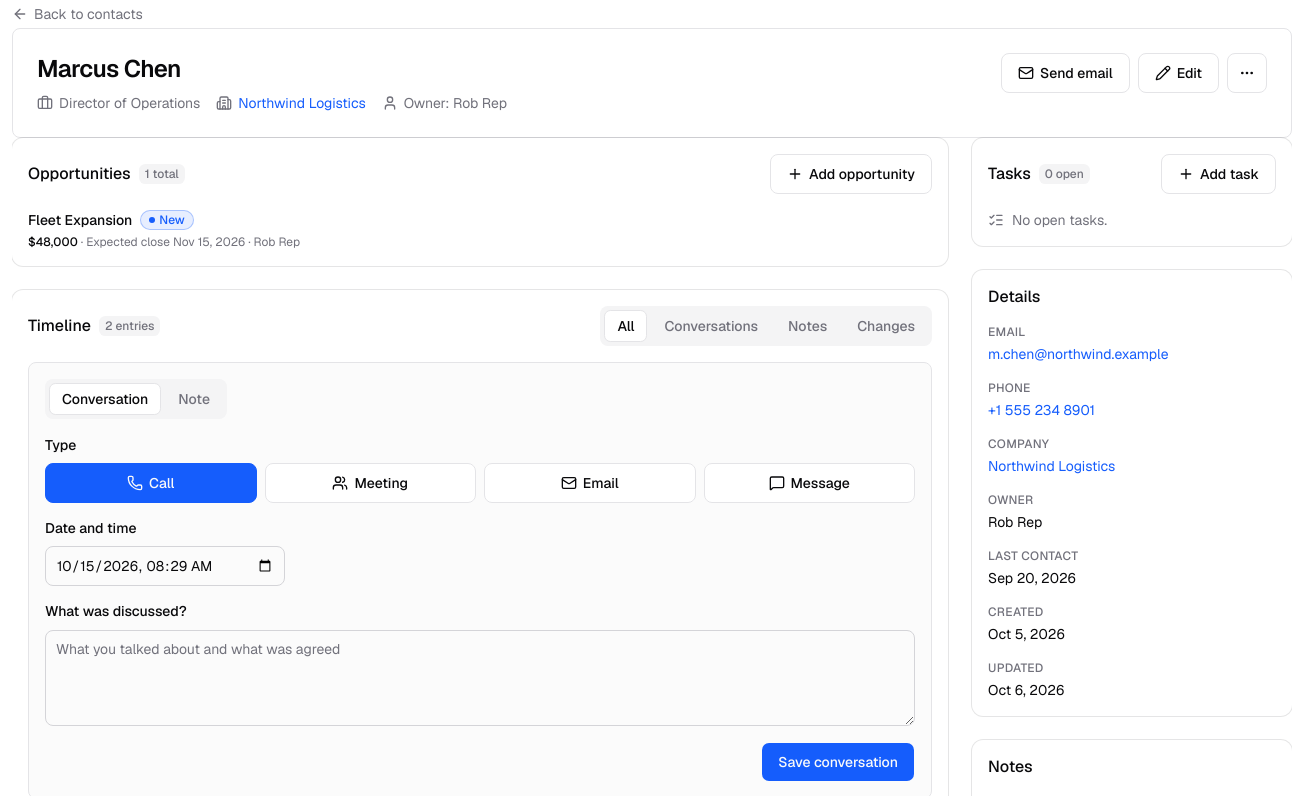
Test: ContactDetailPage › logs a conversation on the contact and moves Last contact forward
Expected: the heading "Marcus Chen" is shown, [37, 53, 181, 85]
Expected: the list named "Opportunities" is shown, [28, 210, 300, 250]
Type "Agreed." into the text box labelled "What was discussed?" at [480, 678], box [45, 630, 915, 726]
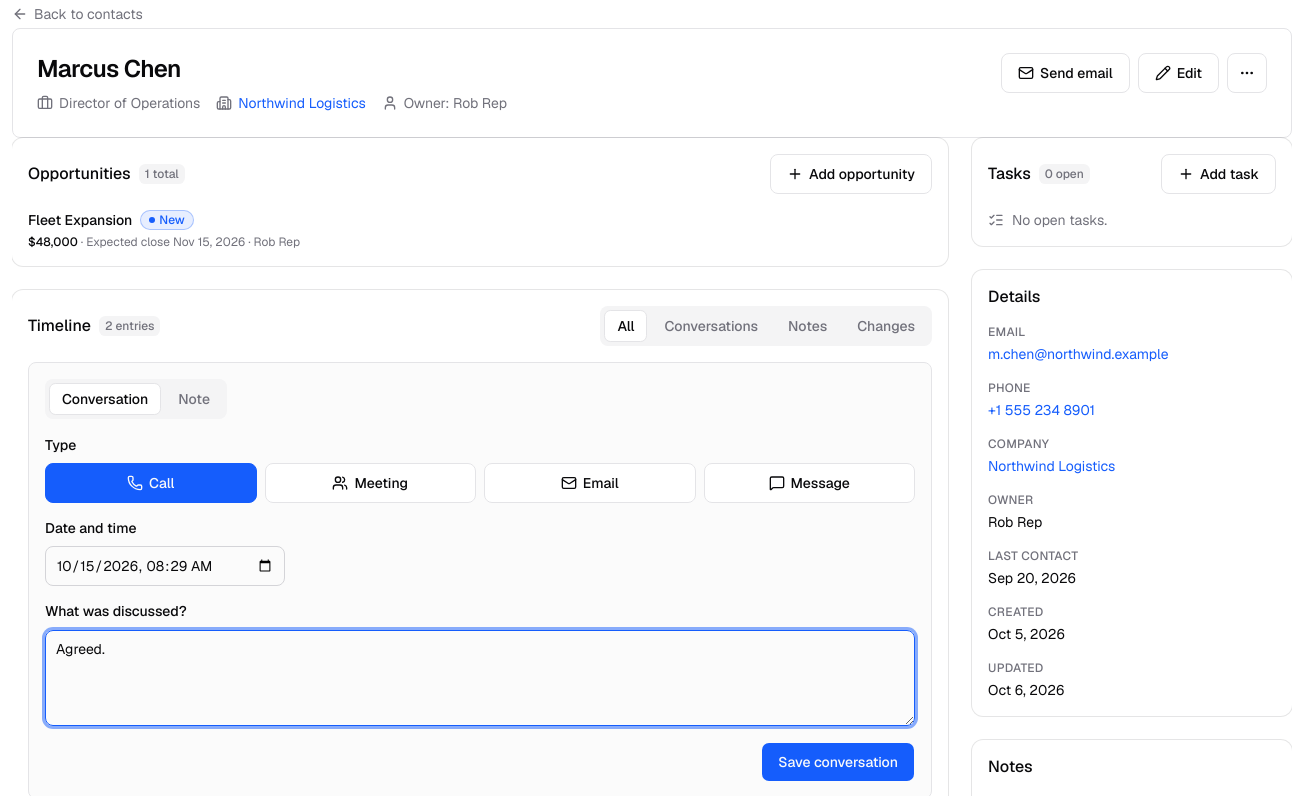
Click the button "Save conversation" at [838, 762], box [761, 742, 915, 782]
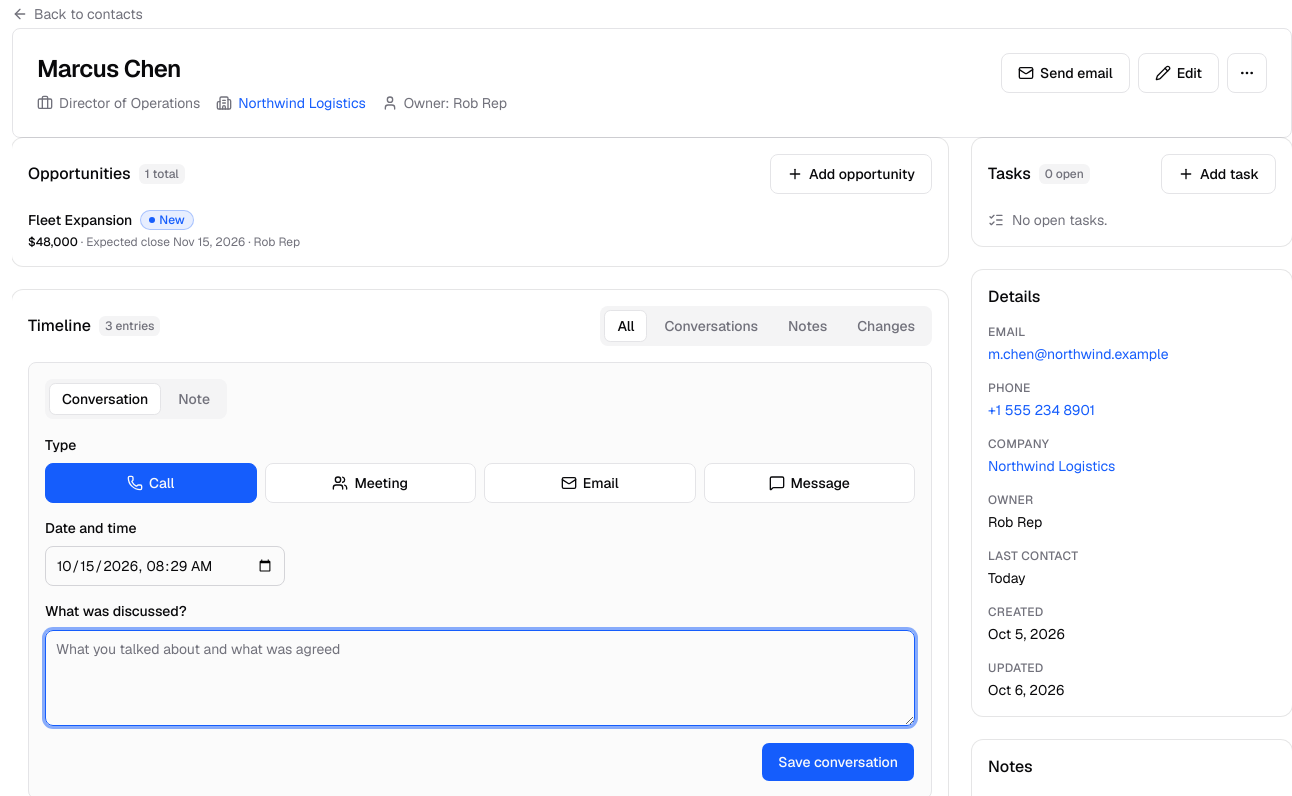
Now the text "Today" is shown, box [988, 569, 1026, 587]
